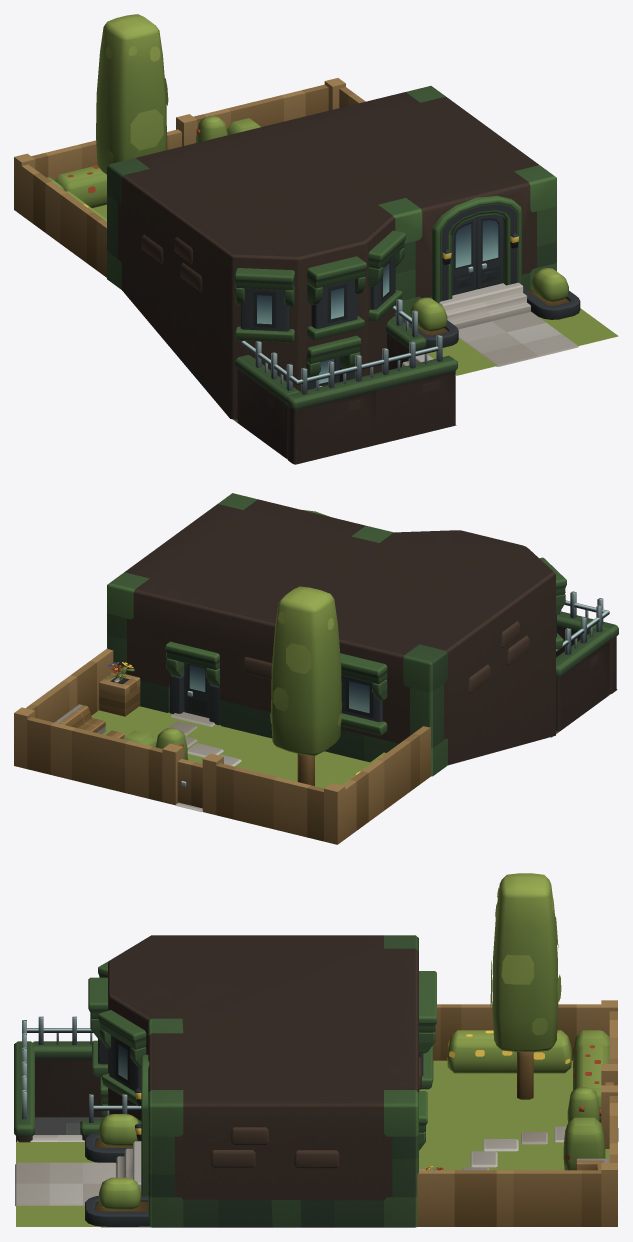
Rendered from apartment_type2_ground_brown.fbx.
3 views of the same model, one above another, from view 1: azimuth 30°, elevation 25°; view 2: azimuth 150°, elevation 25°; view 3: azimuth 270°, elevation 25° (orthographic). The views are drawn at different scales.
Parts seen in each view (by area): view 1: apartment_type2_ground_brown, door_front_right_apartment_type2_ground, door_front_left_apartment_type2_ground; view 2: apartment_type2_ground_brown, door_back_apartment_type2_ground, door_garden_apartment_type2_ground; view 3: apartment_type2_ground_brown.
Part boxes in pixels (x1,y1,x2,y2): apartment_type2_ground_brown: (14, 14, 618, 464); door_front_right_apartment_type2_ground: (476, 214, 503, 289); door_front_left_apartment_type2_ground: (452, 217, 476, 295); apartment_type2_ground_brown: (14, 493, 618, 844); door_back_apartment_type2_ground: (184, 663, 210, 717); door_garden_apartment_type2_ground: (177, 759, 202, 808); apartment_type2_ground_brown: (14, 873, 618, 1227).
Size of the model in its own units: 1230 by 889 by 1809.
